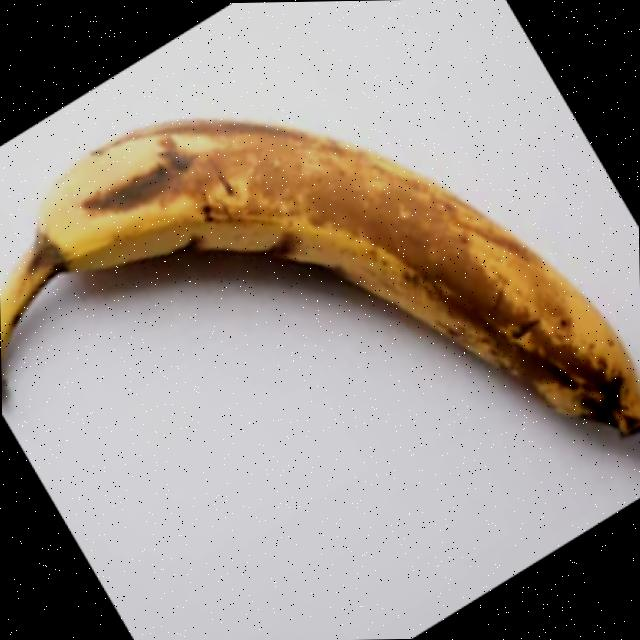overripe: (0, 105, 640, 587)
